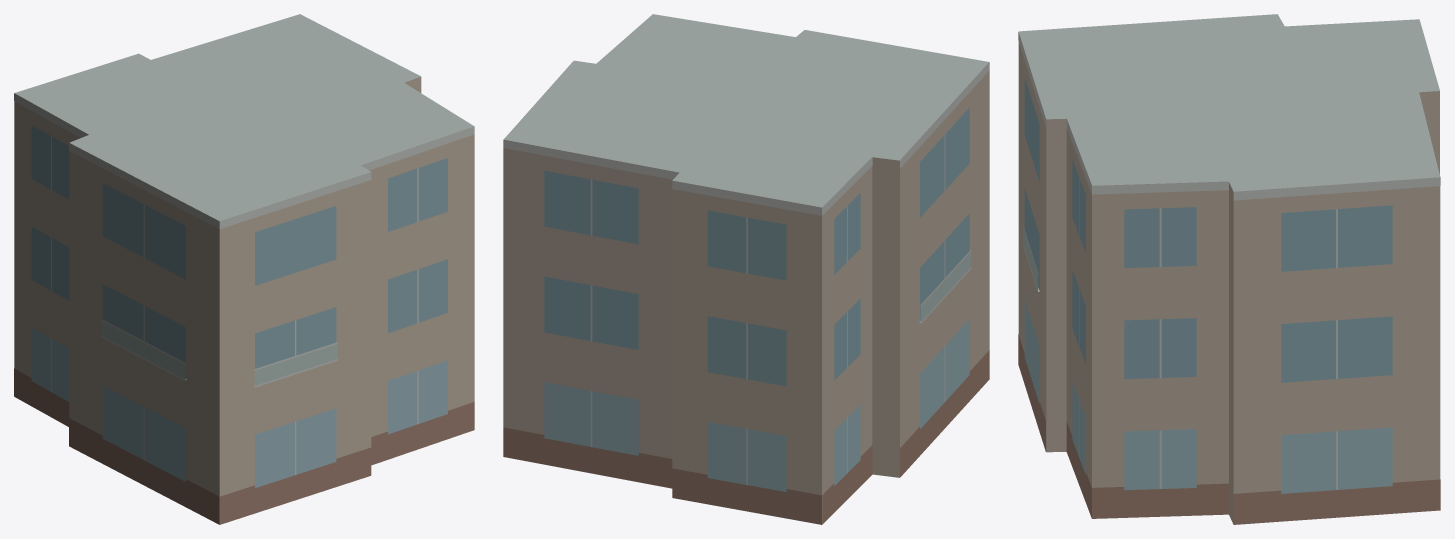
File: survey-upis-32625430.glb
3 renders of one model, left to right at view 1: azimuth 30°, elevation 25°; view 2: azimuth 150°, elevation 25°; view 3: azimuth 270°, elevation 25°, orthographic. The views are drawn at different scales.
Parts seen in each view (by area): view 1: survey-upis-32625430.tmp; view 2: survey-upis-32625430.tmp; view 3: survey-upis-32625430.tmp.
Boxes of the visible parts, x1=… form: survey-upis-32625430.tmp: x1=14, y1=14, x2=474, y2=524; survey-upis-32625430.tmp: x1=503, y1=14, x2=989, y2=524; survey-upis-32625430.tmp: x1=1018, y1=14, x2=1440, y2=524.
Bounding box in the file's own units: 10.66 × 9.3 × 10.69.
